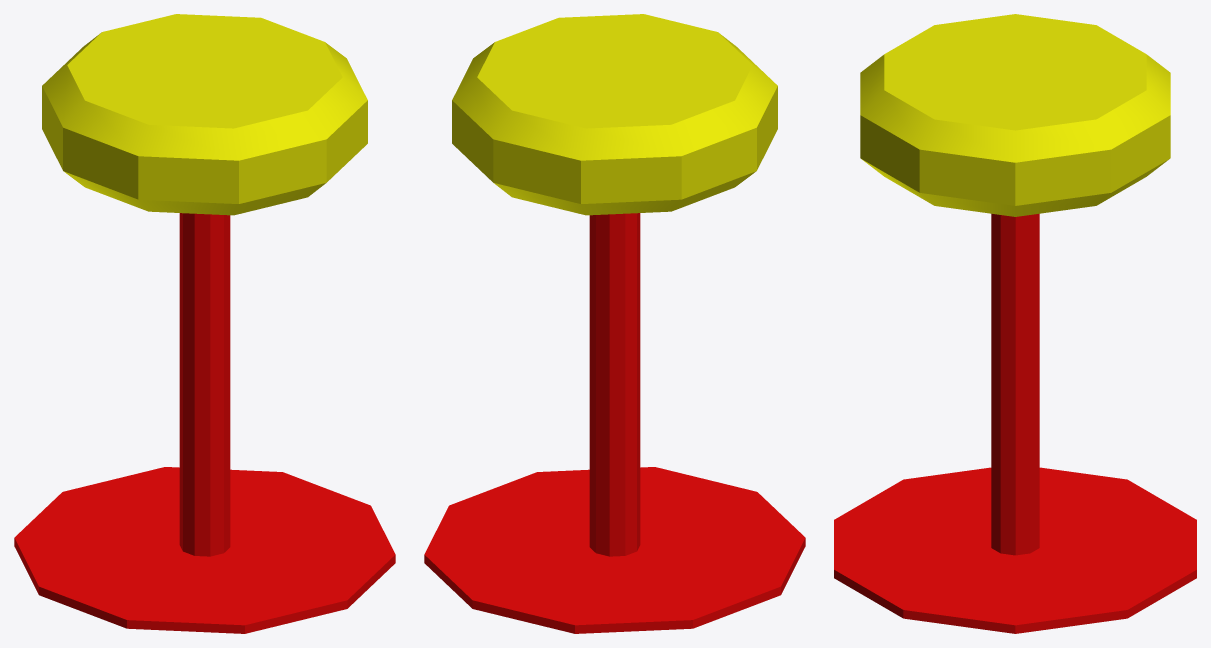
The model's file is BarStool_SM.fbx.
The picture shows the model from 3 angles, left to right: view 1: azimuth 30°, elevation 25°; view 2: azimuth 150°, elevation 25°; view 3: azimuth 270°, elevation 25°; orthographic projection.
Parts seen in each view (by area): view 1: pCylinder1; view 2: pCylinder1; view 3: pCylinder1.
Boxes of the visible parts, x1,y1,x2,y2 form: pCylinder1: [14, 14, 395, 633]; pCylinder1: [424, 14, 805, 633]; pCylinder1: [834, 14, 1196, 633].
Size of the model in its own units: 8 by 11.13 by 7.61.
